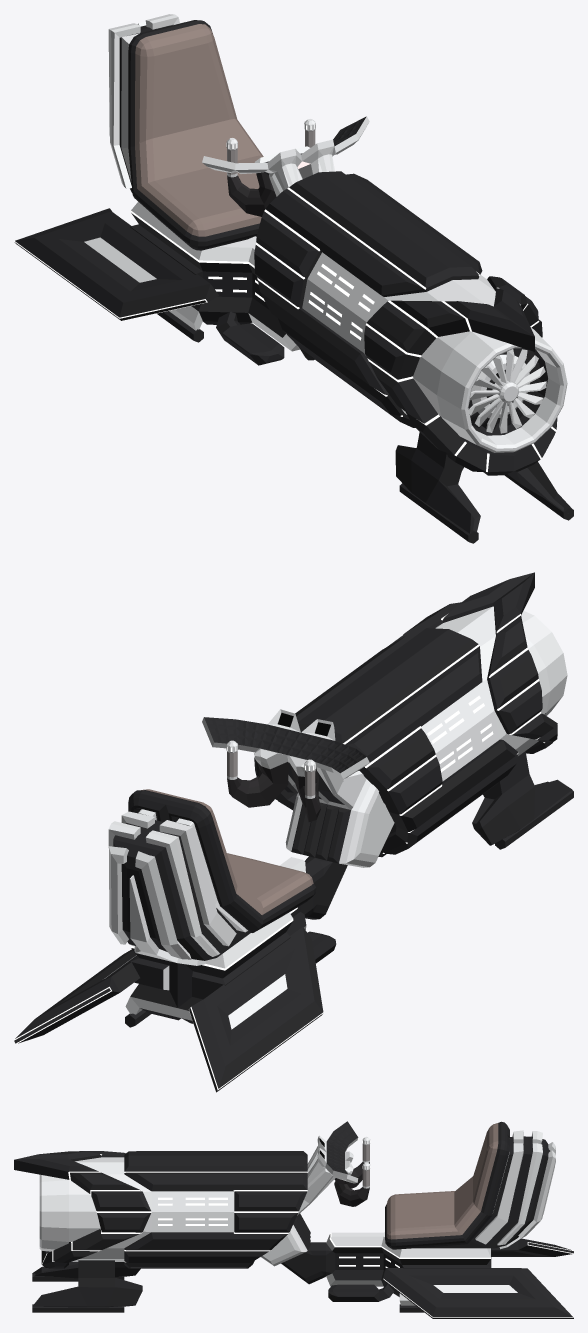
The model's file is land-speeder.glb.
3 renders of one model, top to bottom at view 1: azimuth 30°, elevation 25°; view 2: azimuth 150°, elevation 25°; view 3: azimuth 270°, elevation 25°, orthographic. The views are drawn at different scales.
Parts seen in each view (by area): view 1: LS-340_Body, LS-340_Chair, LS-340_Wings, LS-340_Control, LS-340_Propeller; view 2: LS-340_Body, LS-340_Wings, LS-340_Control, LS-340_Chair; view 3: LS-340_Body, LS-340_Wings, LS-340_Chair, LS-340_Control.
Part boxes in pixels (left/top/right/bottom): LS-340_Body: left=108, top=14, right=573, bottom=543; LS-340_Chair: left=128, top=20, right=263, bottom=250; LS-340_Wings: left=14, top=208, right=218, bottom=320; LS-340_Control: left=202, top=116, right=369, bottom=216; LS-340_Propeller: left=469, top=349, right=546, bottom=433; LS-340_Body: left=108, top=572, right=573, bottom=1027; LS-340_Wings: left=14, top=927, right=323, bottom=1092; LS-340_Control: left=202, top=709, right=369, bottom=821; LS-340_Chair: left=128, top=789, right=316, bottom=932; LS-340_Body: left=14, top=1130, right=555, bottom=1312; LS-340_Wings: left=383, top=1238, right=573, bottom=1318; LS-340_Chair: left=385, top=1121, right=509, bottom=1249; LS-340_Control: left=304, top=1121, right=370, bottom=1206.
Bounding box in the file's own units: 85.68 × 99.58 × 305.
Materials: 1 (1 with a texture image).
